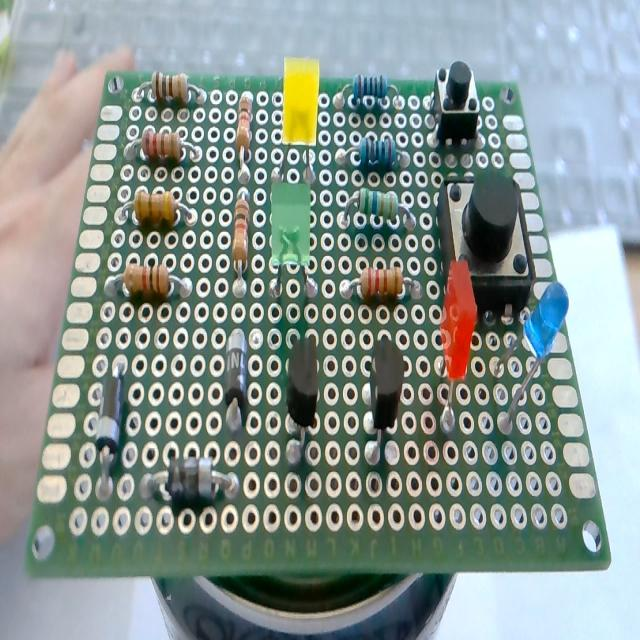diode: (144, 455, 240, 507), (94, 361, 128, 498), (225, 328, 249, 422)
led: (498, 285, 570, 430), (436, 260, 478, 437), (266, 186, 318, 305), (282, 56, 322, 146)
resistor: (339, 188, 415, 232), (108, 263, 192, 301), (122, 189, 194, 228), (341, 266, 418, 302), (332, 72, 399, 112), (337, 136, 407, 173), (128, 128, 196, 165), (136, 71, 204, 105), (232, 188, 250, 298), (236, 90, 253, 192), (360, 188, 395, 220), (352, 74, 387, 104)
switch: (441, 173, 534, 324), (432, 60, 478, 144)
transistor: (365, 335, 407, 462), (283, 336, 320, 464)
